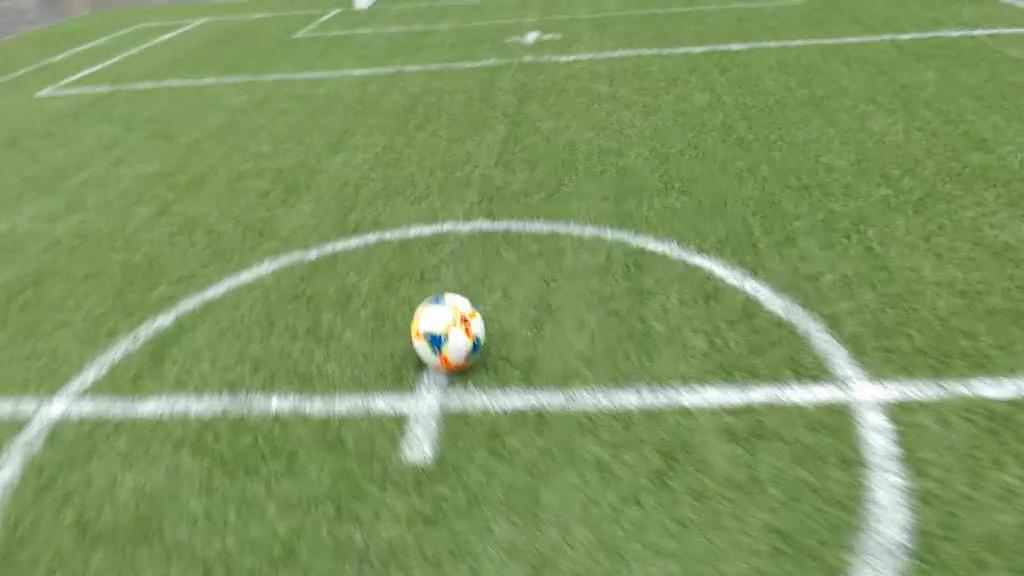ball: (410, 293, 485, 370)
